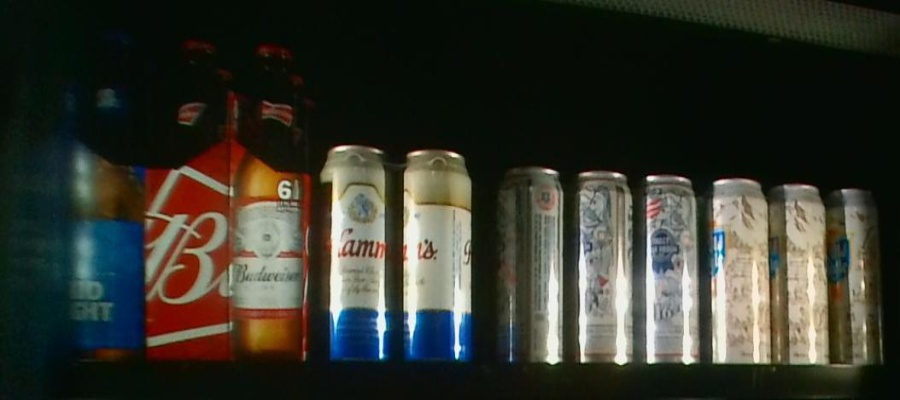bottle: (145, 33, 308, 363), (483, 159, 700, 368), (6, 29, 141, 359), (315, 128, 482, 362), (703, 172, 888, 366)
